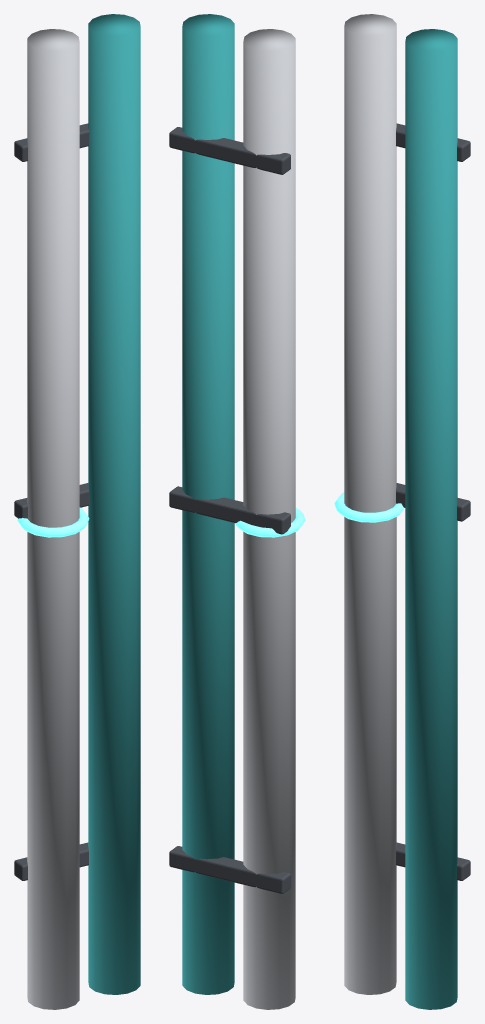
Rendered from pipe_run_vertical_trunk.glb.
The picture shows the model from 3 angles, left to right: view 1: azimuth 30°, elevation 25°; view 2: azimuth 150°, elevation 25°; view 3: azimuth 330°, elevation 25°; orthographic projection.
Parts seen in each view (by area): view 1: GD_pipe_run_vertical_trunk__m1, GD_pipe_run_vertical_trunk__m0, GD_pipe_run_vertical_trunk__m2, GD_pipe_run_vertical_trunk__m3; view 2: GD_pipe_run_vertical_trunk__m0, GD_pipe_run_vertical_trunk__m1, GD_pipe_run_vertical_trunk__m2, GD_pipe_run_vertical_trunk__m3; view 3: GD_pipe_run_vertical_trunk__m1, GD_pipe_run_vertical_trunk__m0, GD_pipe_run_vertical_trunk__m2, GD_pipe_run_vertical_trunk__m3.
Part boxes in pixels (left/top/right/bottom): GD_pipe_run_vertical_trunk__m1: left=88, top=14, right=140, bottom=994; GD_pipe_run_vertical_trunk__m0: left=27, top=29, right=79, bottom=1009; GD_pipe_run_vertical_trunk__m2: left=14, top=123, right=88, bottom=880; GD_pipe_run_vertical_trunk__m3: left=17, top=507, right=89, bottom=537; GD_pipe_run_vertical_trunk__m0: left=243, top=29, right=295, bottom=1009; GD_pipe_run_vertical_trunk__m1: left=182, top=14, right=234, bottom=994; GD_pipe_run_vertical_trunk__m2: left=169, top=127, right=290, bottom=893; GD_pipe_run_vertical_trunk__m3: left=235, top=507, right=305, bottom=537; GD_pipe_run_vertical_trunk__m1: left=405, top=29, right=457, bottom=1009; GD_pipe_run_vertical_trunk__m0: left=344, top=14, right=396, bottom=994; GD_pipe_run_vertical_trunk__m2: left=396, top=123, right=470, bottom=880; GD_pipe_run_vertical_trunk__m3: left=334, top=492, right=404, bottom=522.
Size of the model in its own units: 0.312 by 2.4 by 0.1599.
